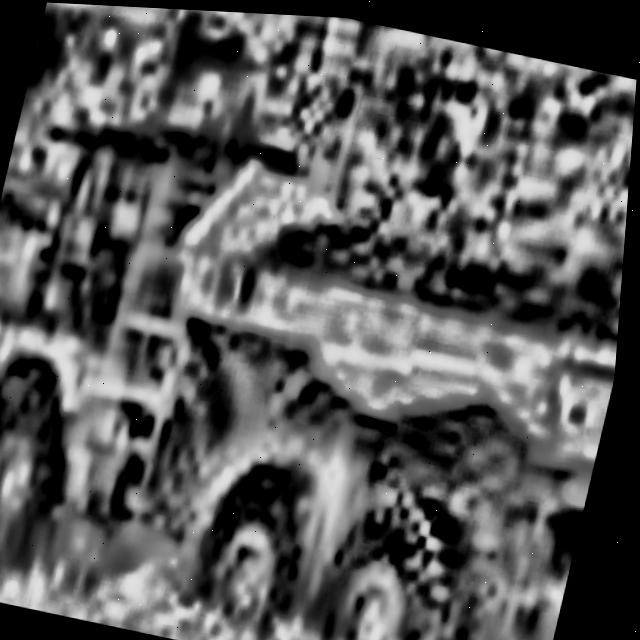dump_truck: (0, 41, 638, 640)
